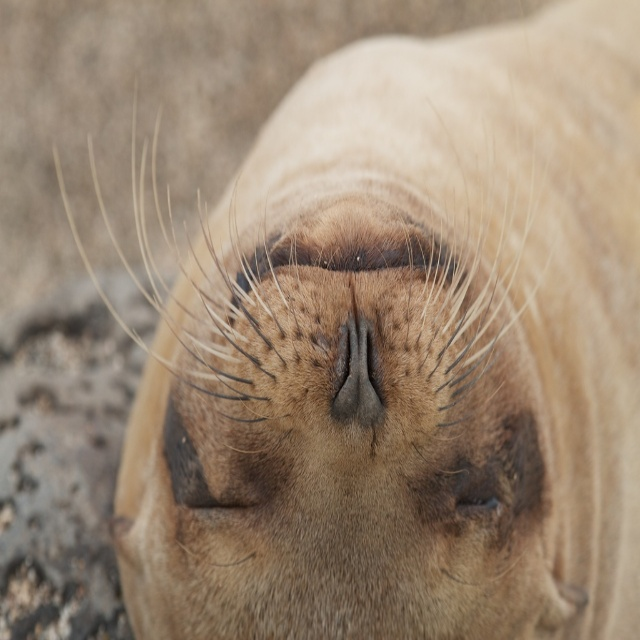Harbor seal: (52, 0, 639, 640)
